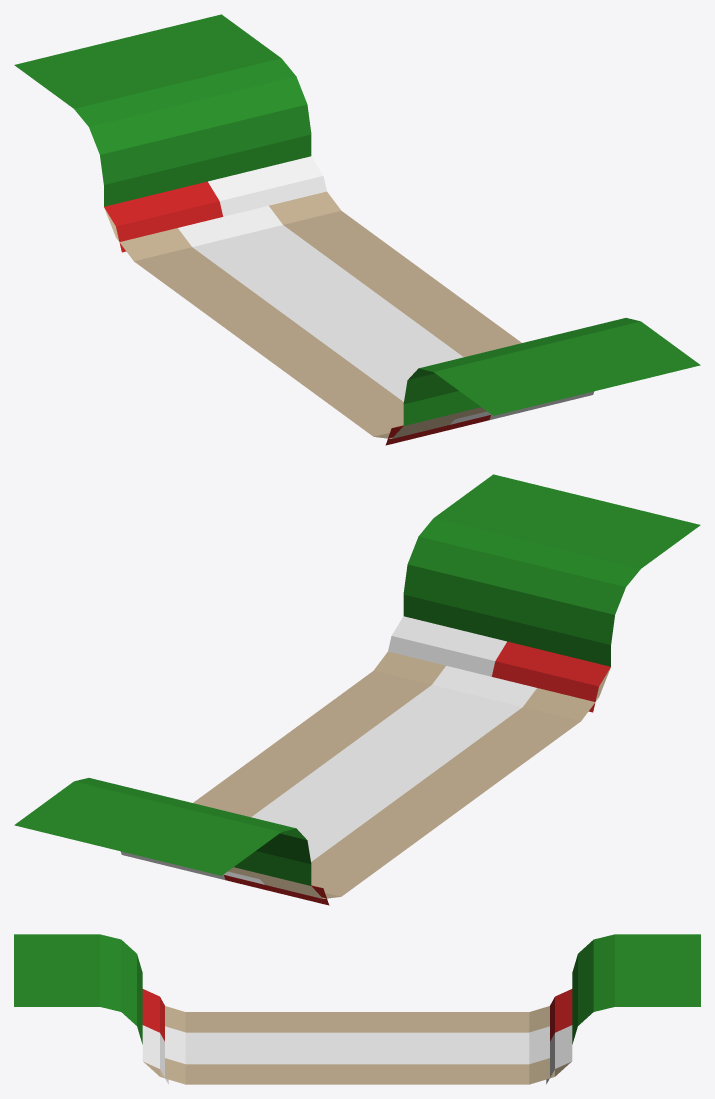
The model's file is Track_Striped_Finish_Line_Double_Blank.obj.
3 views of the same model, one above another, from view 1: azimuth 30°, elevation 25°; view 2: azimuth 150°, elevation 25°; view 3: azimuth 270°, elevation 25° (orthographic). The views are drawn at different scales.
Visible parts, largest first — view 1: Grass, Dirt, Ground_Finish_Line, Raceline_Color_2, Raceline_Color_1; view 2: Grass, Dirt, Ground_Finish_Line, Raceline_Color_2, Raceline_Color_1; view 3: Grass, Dirt, Ground_Finish_Line, Raceline_Color_1, Raceline_Color_2.
Boxes of the visible parts, <box> form: Grass: <box>14,14,700,425</box>; Dirt: <box>104,191,521,438</box>; Ground_Finish_Line: <box>178,206,491,424</box>; Raceline_Color_2: <box>104,181,490,445</box>; Raceline_Color_1: <box>208,156,594,420</box>; Grass: <box>14,474,700,885</box>; Dirt: <box>193,651,610,898</box>; Ground_Finish_Line: <box>223,666,536,884</box>; Raceline_Color_2: <box>224,641,610,905</box>; Raceline_Color_1: <box>120,616,506,880</box>; Grass: <box>14,934,700,1044</box>; Dirt: <box>143,1006,571,1084</box>; Ground_Finish_Line: <box>165,1026,549,1064</box>; Raceline_Color_1: <box>142,1025,572,1084</box>; Raceline_Color_2: <box>142,989,572,1041</box>.
Bounding box in the file's own units: 1 × 0.5 × 4.
